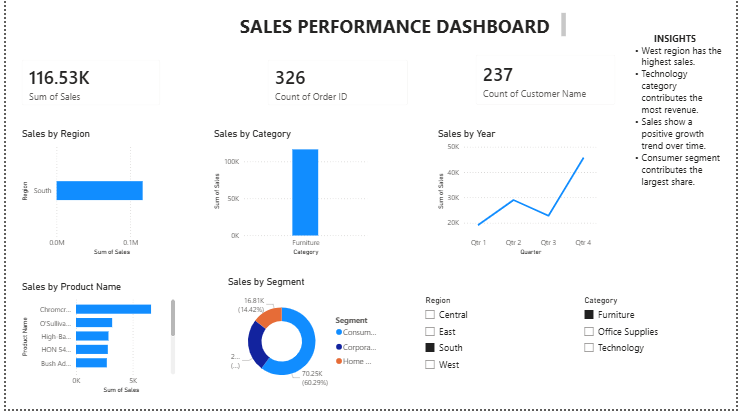

Layout of this report page (visuals, bound fields, positions):
{"tool":"powerbi","page":{"name":"Page 1","canvas":[1280,720],"ordinal":0},"visuals":[{"type":"cardVisual","fields":{"Data":["Sum(Superstore Sales Dataset.Sales)"]},"box":[11.1,88.9,277.8,114.3],"z":0},{"type":"cardVisual","fields":{"Data":["CountNonNull(Superstore Sales Dataset.Order ID)"]},"box":[441.3,88.9,281,114.3],"z":1000},{"type":"cardVisual","fields":{"Data":["Count(Superstore Sales Dataset.Customer Name)"]},"box":[806.3,81,279.4,122.2],"z":2000},{"type":"clusteredBarChart","title":"Sales by Region","fields":{"Category":["Superstore Sales Dataset.Region"],"Y":["Sum(Superstore Sales Dataset.Sales)"]},"box":[22.4,225.9,279.3,227.6],"z":3000},{"type":"clusteredColumnChart","title":"Sales by Category","fields":{"Category":["Superstore Sales Dataset.Category"],"Y":["Sum(Superstore Sales Dataset.Sales)"]},"box":[360.3,225.9,279.3,227.6],"z":4000},{"type":"lineChart","title":"Sales by Year","fields":{"Category":["Superstore Sales Dataset.Order Date.Variation.Date Hierarchy.Year","Superstore Sales Dataset.Order Date.Variation.Date Hierarchy.Quarter","Superstore Sales Dataset.Order Date.Variation.Date Hierarchy.Month","Superstore Sales Dataset.Order Date.Variation.Date Hierarchy.Day"],"Y":["Sum(Superstore Sales Dataset.Sales)"]},"box":[753.4,225.9,289.7,227.6],"z":5000},{"type":"barChart","title":"Sales by Product Name","fields":{"Category":["Superstore Sales Dataset.Product Name"],"Y":["Sum(Superstore Sales Dataset.Sales)"]},"box":[22.4,494.8,279.3,201.7],"z":6000},{"type":"donutChart","title":"Sales by Segment","fields":{"Category":["Superstore Sales Dataset.Segment"],"Y":["Sum(Superstore Sales Dataset.Sales)"]},"box":[384.5,486.2,281,210.3],"z":7000},{"type":"slicer","fields":{"Values":["Superstore Sales Dataset.Region"]},"box":[722.4,515.5,224.1,181],"z":8000},{"type":"slicer","fields":{"Values":["Superstore Sales Dataset.Category"]},"box":[1001.7,515.5,200,167.2],"z":9000},{"type":"textbox","box":[384.1,19,603.2,52.4],"z":10000}]}

Visuals, with their boxes in screenshot pixels (x1, y1, x2, y2), scaled from the page's 1280x720 canvas onto the 743x415 screenshot:
cardVisual - Sum(Superstore Sales Dataset.Sales): detection(6, 51, 168, 117)
cardVisual - CountNonNull(Superstore Sales Dataset.Order ID): detection(256, 51, 419, 117)
cardVisual - Count(Superstore Sales Dataset.Customer Name): detection(468, 47, 630, 117)
"Sales by Region" clusteredBarChart: detection(13, 130, 175, 261)
"Sales by Category" clusteredColumnChart: detection(209, 130, 371, 261)
"Sales by Year" lineChart: detection(437, 130, 605, 261)
"Sales by Product Name" barChart: detection(13, 285, 175, 401)
"Sales by Segment" donutChart: detection(223, 280, 386, 401)
slicer - Superstore Sales Dataset.Region: detection(419, 297, 549, 401)
slicer - Superstore Sales Dataset.Category: detection(581, 297, 698, 394)
textbox: detection(223, 11, 573, 41)
